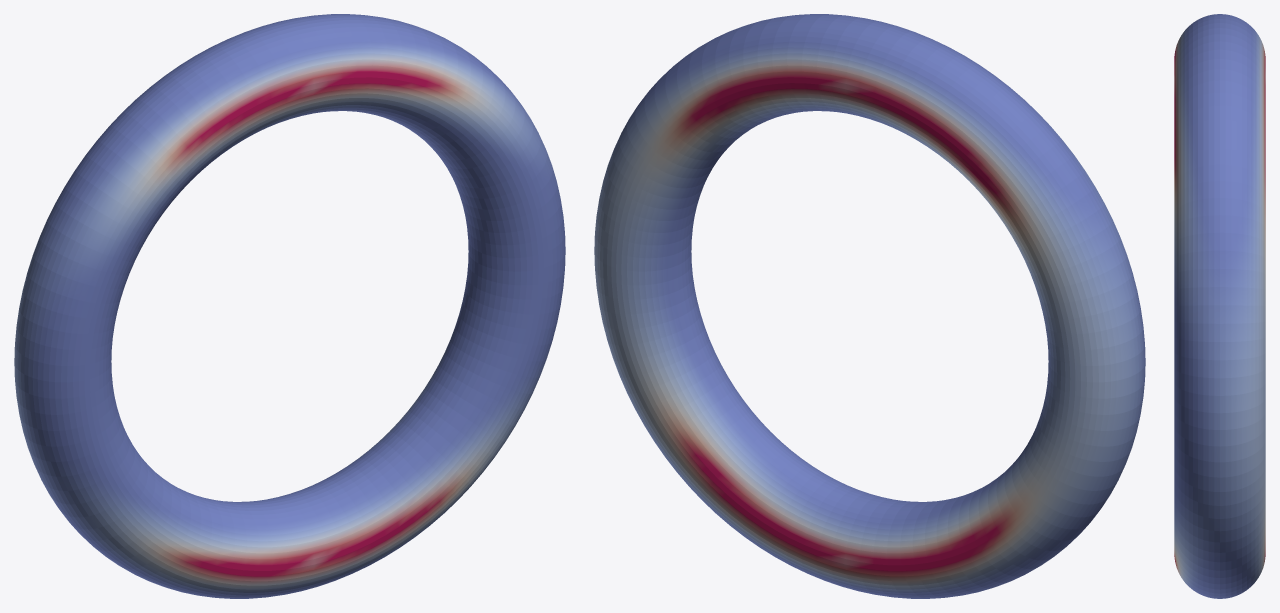
The picture shows the model from 3 angles, left to right: view 1: azimuth 30°, elevation 25°; view 2: azimuth 150°, elevation 25°; view 3: azimuth 270°, elevation 25°; orthographic projection. The views are drawn at different scales.
Visible parts, largest first — view 1: world; view 2: world; view 3: world.
Part boxes in pixels (bbox=[...]): world: bbox=[14, 14, 565, 598]; world: bbox=[594, 14, 1145, 598]; world: bbox=[1174, 14, 1265, 598].
Size of the model in its own units: 21.33 by 21.33 by 3.33.
